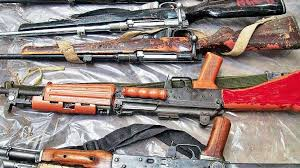Gun: (7, 8, 300, 164)
